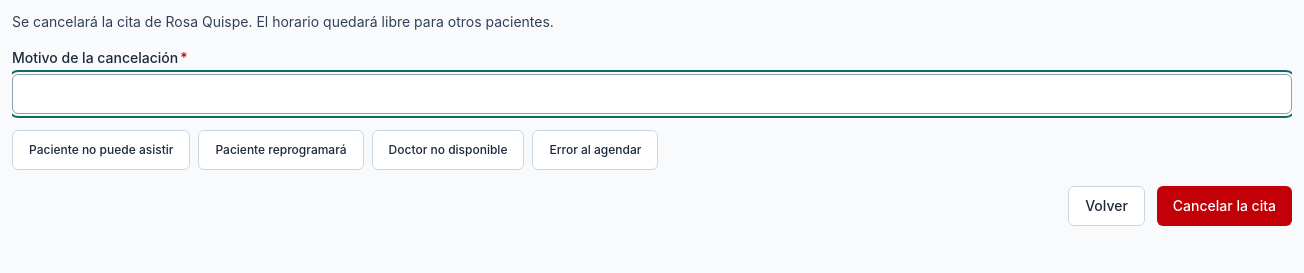
Test: CancelAppointmentForm › exige el motivo: vacío no confirma y muestra el error
This screenshot has width=1304, height=273.
Click the button "Cancelar la cita".
click(1224, 206)  # box [1157,186,1292,226]
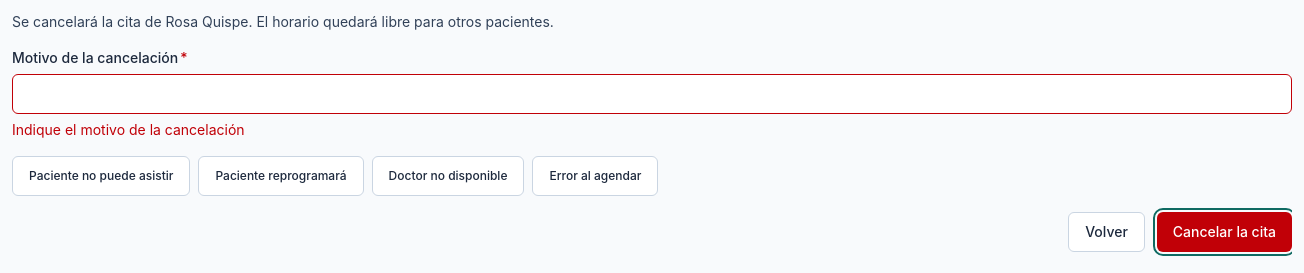
Now the text "Indique el motivo de la cancelación" is shown, box [12,121,245,138]
